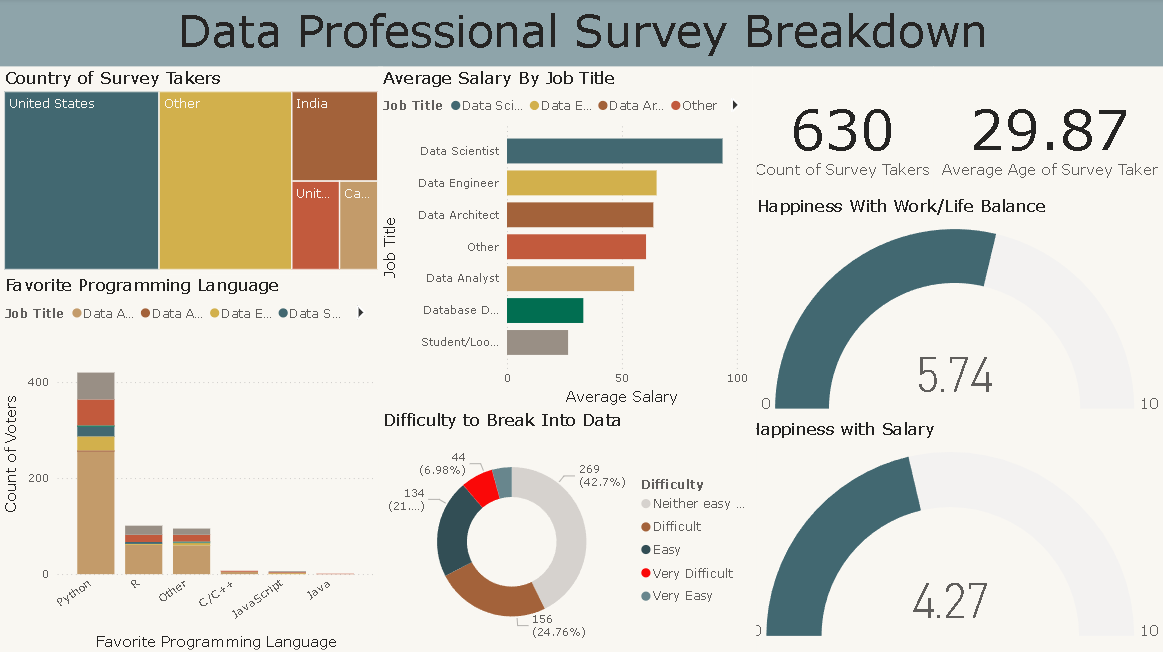

Layout of this report page (visuals, bound fields, positions):
{"tool":"powerbi","page":{"name":"Page 1","canvas":[1280,720],"ordinal":0},"visuals":[{"type":"textbox","box":[0,0,1280.3,75.5],"z":0},{"type":"card","fields":{"Values":["CountNonNull(Data Professional Survey.Unique ID)"]},"box":[826.1,75.5,199,150.9],"z":1000},{"type":"card","fields":{"Values":["Avg(Data Professional Survey.Q10 - Current Age)"]},"box":[1025,75.5,255.2,150.9],"z":2000},{"type":"barChart","title":"Average Salary By Job Title","fields":{"Category":["Data Professional Survey.Q1 - Which Title Best Fits your Current Role?.1"],"Y":["Avg(Data Professional Survey.Average Salary)"],"Series":["Data Professional Survey.Q1 - Which Title Best Fits your Current Role?.1"]},"box":[415.8,75.5,410.3,376],"z":3000},{"type":"columnChart","title":"Favorite Programming Language","fields":{"Category":["Data Professional Survey.Q5 - Favorite Programming Language.1"],"Y":["CountNonNull(Data Professional Survey.Unique ID)"],"Series":["Data Professional Survey.Q1 - Which Title Best Fits your Current Role?.1"]},"box":[0,303.3,415.8,417.2],"z":4000},{"type":"treemap","title":"Country of Survey Takers","fields":{"Group":["Data Professional Survey.Q11 - Which Country do you live in?.1"],"Values":["CountNonNull(Data Professional Survey.Q11 - Which Country do you live in?.1)"]},"box":[0,75.5,419.9,227.8],"z":5000},{"type":"gauge","title":"Happiness With Work/Life Balance","fields":{"Y":["Avg(Data Professional Survey.Q6 - How Happy are you in your Current Position with the following? (Work/Life Balance))"],"MinValue":["Min(Data Professional Survey.Q6 - How Happy are you in your Current Position with the following? (Work/Life Balance))1"],"MaxValue":["Max(Data Professional Survey.Q6 - How Happy are you in your Current Position with the following? (Work/Life Balance))2"]},"box":[826.1,216.8,454.2,253.9],"z":6000},{"type":"gauge","title":"Happiness with Salary","fields":{"Y":["Avg(Data Professional Survey.Q6 - How Happy are you in your Current Position with the following? (Salary))"],"MinValue":["Min(Data Professional Survey.Q6 - How Happy are you in your Current Position with the following? (Salary))1"],"MaxValue":["Max(Data Professional Survey.Q6 - How Happy are you in your Current Position with the following? (Salary))2"]},"box":[816.5,461.1,463.8,259.3],"z":7000},{"type":"donutChart","title":"Difficulty to Break Into Data","fields":{"Category":["Data Professional Survey.Q7 - How difficult was it for you to break into Data?"],"Y":["CountNonNull(Data Professional Survey.Q7 - How difficult was it for you to break into Data?)"]},"box":[415.8,451.5,414.4,269],"z":8000}]}

Visuals, with their boxes in screenshot pixels (x1, y1, x2, y2), scaled from the page's 1280x720 canvas onto the 1163x652 screenshot:
textbox: [x1=0, y1=0, x2=1162, y2=68]
card - CountNonNull(Data Professional Survey.Unique ID): [x1=751, y1=68, x2=931, y2=205]
card - Avg(Data Professional Survey.Q10 - Current Age): [x1=931, y1=68, x2=1162, y2=205]
"Average Salary By Job Title" barChart: [x1=378, y1=68, x2=751, y2=409]
"Favorite Programming Language" columnChart: [x1=0, y1=275, x2=378, y2=651]
"Country of Survey Takers" treemap: [x1=0, y1=68, x2=382, y2=275]
"Happiness With Work/Life Balance" gauge: [x1=751, y1=196, x2=1162, y2=426]
"Happiness with Salary" gauge: [x1=742, y1=418, x2=1162, y2=651]
"Difficulty to Break Into Data" donutChart: [x1=378, y1=409, x2=754, y2=651]
